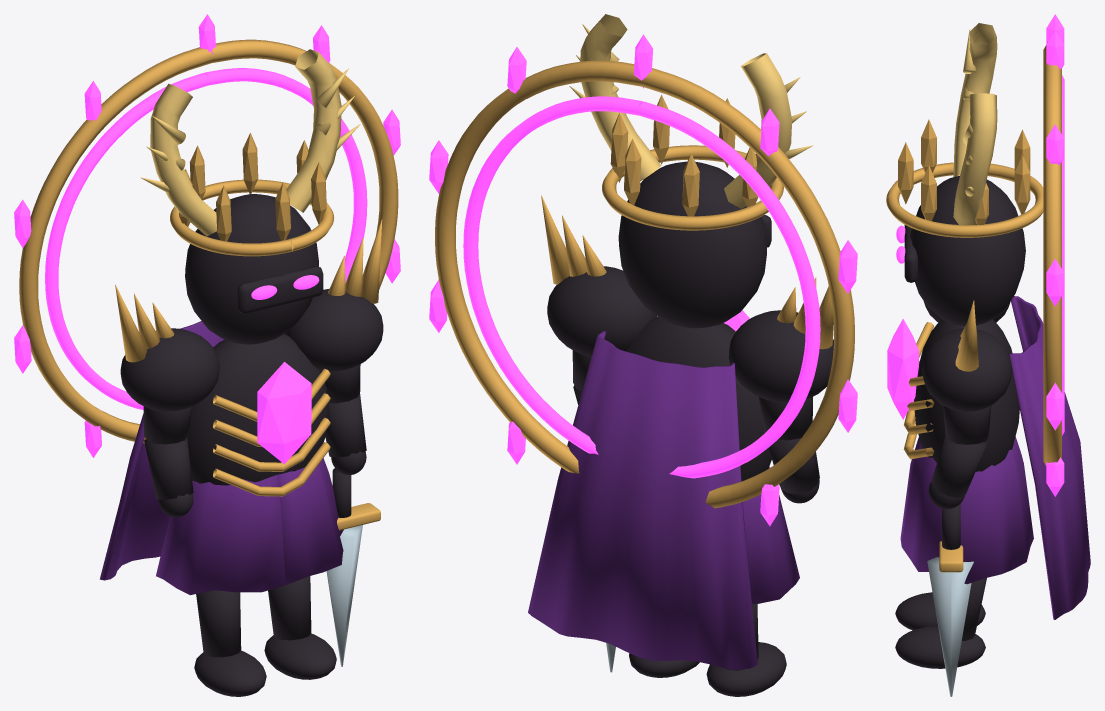
Rendered from enemy-4-refined-v15.fbx.
3 views of the same model, side by side, from view 1: azimuth 30°, elevation 25°; view 2: azimuth 150°, elevation 25°; view 3: azimuth 270°, elevation 25° (orthographic). The views are drawn at different scales.
Visible parts, largest first — view 1: Tabard.002, EclipseHalo, Helmet.002, ArmoredTorso.002, EclipseEnergy, Shoulder.006, Shoulder.007, TatteredCape.002, BossCore.001, CurvedBossHorn.002, CurvedBossHorn.003, RoyalCrown.001 (+29 smaller); view 2: TatteredCape.002, EclipseHalo, Helmet.002, EclipseEnergy, Shoulder.007, Shoulder.006, ArmoredTorso.002, Tabard.002, RoyalCrown.001, CurvedBossHorn.003, CurvedBossHorn.002, Foot.008 (+17 smaller); view 3: TatteredCape.002, Tabard.002, Helmet.002, EclipseHalo, Shoulder.007, ArmoredTorso.002, RoyalCrown.001, CurvedBossHorn.003, SwordBlade.002, CurvedBossHorn.002, Foot.009, BossCore.001 (+25 smaller).
Boxes of the visible parts, bbox=[...] form: Tabard.002: bbox=[156, 458, 343, 595]; EclipseHalo: bbox=[19, 39, 398, 443]; Helmet.002: bbox=[185, 194, 318, 344]; ArmoredTorso.002: bbox=[187, 334, 329, 485]; EclipseEnergy: bbox=[45, 68, 367, 409]; Shoulder.006: bbox=[120, 328, 219, 411]; Shoulder.007: bbox=[284, 288, 383, 371]; TatteredCape.002: bbox=[99, 321, 284, 580]; BossCore.001: bbox=[257, 362, 311, 464]; CurvedBossHorn.002: bbox=[150, 83, 216, 236]; CurvedBossHorn.003: bbox=[286, 49, 341, 212]; RoyalCrown.001: bbox=[170, 179, 334, 256]; TatteredCape.002: bbox=[528, 330, 757, 669]; EclipseHalo: bbox=[435, 60, 854, 508]; Helmet.002: bbox=[618, 161, 766, 328]; EclipseEnergy: bbox=[463, 96, 820, 478]; Shoulder.007: bbox=[547, 266, 656, 356]; Shoulder.006: bbox=[728, 310, 833, 402]; ArmoredTorso.002: bbox=[625, 316, 771, 481]; Tabard.002: bbox=[743, 466, 799, 603]; RoyalCrown.001: bbox=[602, 145, 783, 230]; CurvedBossHorn.003: bbox=[580, 14, 661, 180]; CurvedBossHorn.002: bbox=[724, 53, 792, 208]; Foot.008: bbox=[706, 642, 786, 696]; TatteredCape.002: bbox=[1009, 296, 1090, 619]; Tabard.002: bbox=[900, 437, 1033, 584]; Helmet.002: bbox=[910, 176, 1025, 325]; EclipseHalo: bbox=[1043, 42, 1061, 465]; Shoulder.007: bbox=[922, 328, 1012, 411]; ArmoredTorso.002: bbox=[914, 319, 1019, 471]; RoyalCrown.001: bbox=[886, 162, 1043, 237]; CurvedBossHorn.003: bbox=[953, 93, 997, 225]; SwordBlade.002: bbox=[927, 557, 973, 696]; CurvedBossHorn.002: bbox=[953, 23, 997, 177]; Foot.009: bbox=[895, 626, 985, 668]; BossCore.001: bbox=[887, 319, 918, 419].
Bounding box in the file's own units: 164 × 259 × 76.71.
